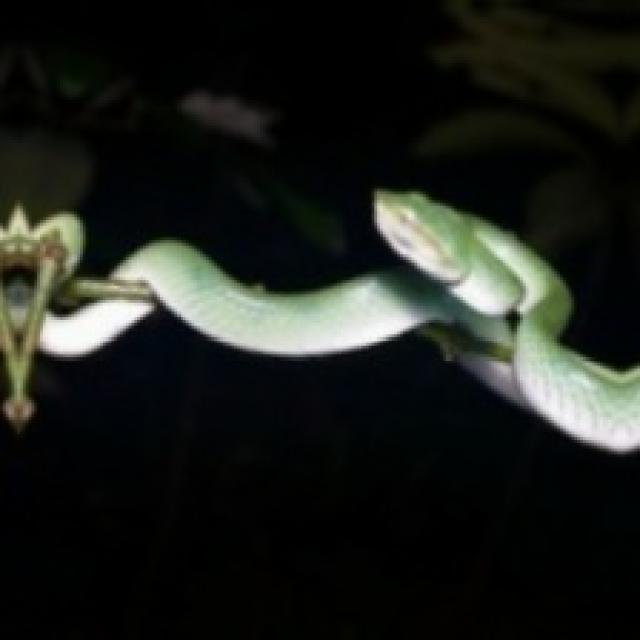north ph temple pitviper: (0, 189, 637, 449)
